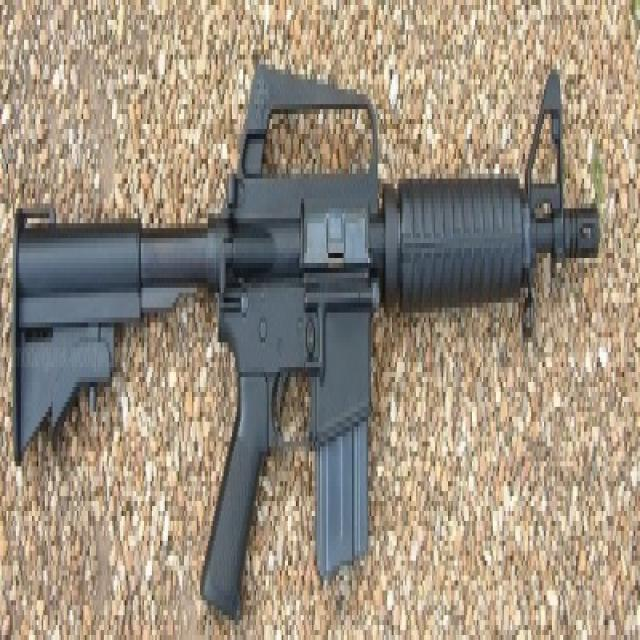rifle: (7, 29, 601, 640)
